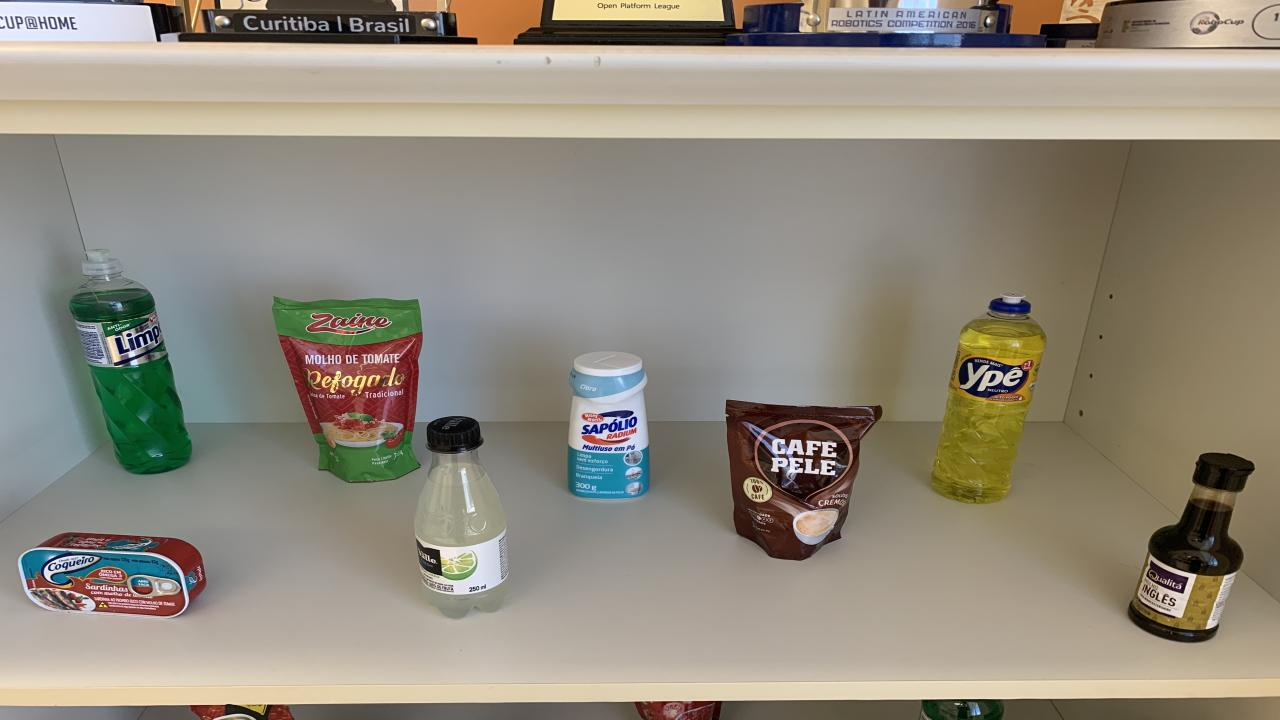Cleaner-Cleanup_Items: (568, 352, 650, 499)
Coffee-Pantry_Items: (725, 401, 882, 561)
Detergent-Cleanup_Items: (70, 249, 192, 474), (932, 292, 1048, 502), (920, 699, 1005, 720)
English_Sauce-Pantry_Items: (1128, 452, 1252, 641)
Soda-Drinks: (415, 416, 508, 619)
Tomato_Sauce-Pantry_Items: (272, 296, 422, 482), (635, 701, 722, 720), (190, 705, 292, 720)
Tuna_Can-Pantry_Items: (18, 532, 205, 617)
